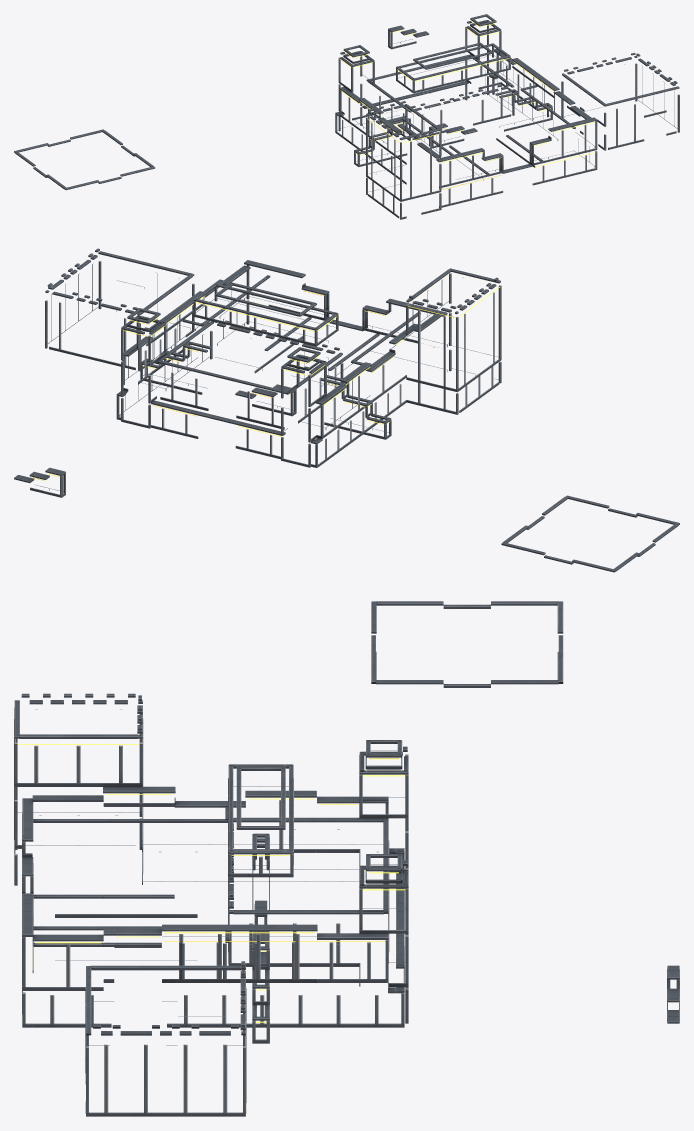
3 views of the same model, one above another, from view 1: azimuth 30°, elevation 25°; view 2: azimuth 150°, elevation 25°; view 3: azimuth 270°, elevation 25° (orthographic). The views are drawn at different scales.
Parts seen in each view (by area): view 1: dr-citadel, dr-gate, dr-ruin-wall; view 2: dr-citadel, dr-gate, dr-ruin-wall; view 3: dr-citadel, dr-gate.
Part boxes in pixels (<box>): dr-citadel: <box>14,14,679,219</box>; dr-gate: <box>354,42,552,167</box>; dr-ruin-wall: <box>429,123,477,148</box>; dr-citadel: <box>14,248,679,572</box>; dr-gate: <box>140,282,391,439</box>; dr-ruin-wall: <box>235,384,296,416</box>; dr-citadel: <box>14,601,679,1116</box>; dr-gate: <box>228,764,293,1043</box>.
Bounding box in the file's own units: 144 × 22.11 × 83.98.
Materials: 1 (1 with a texture image).
